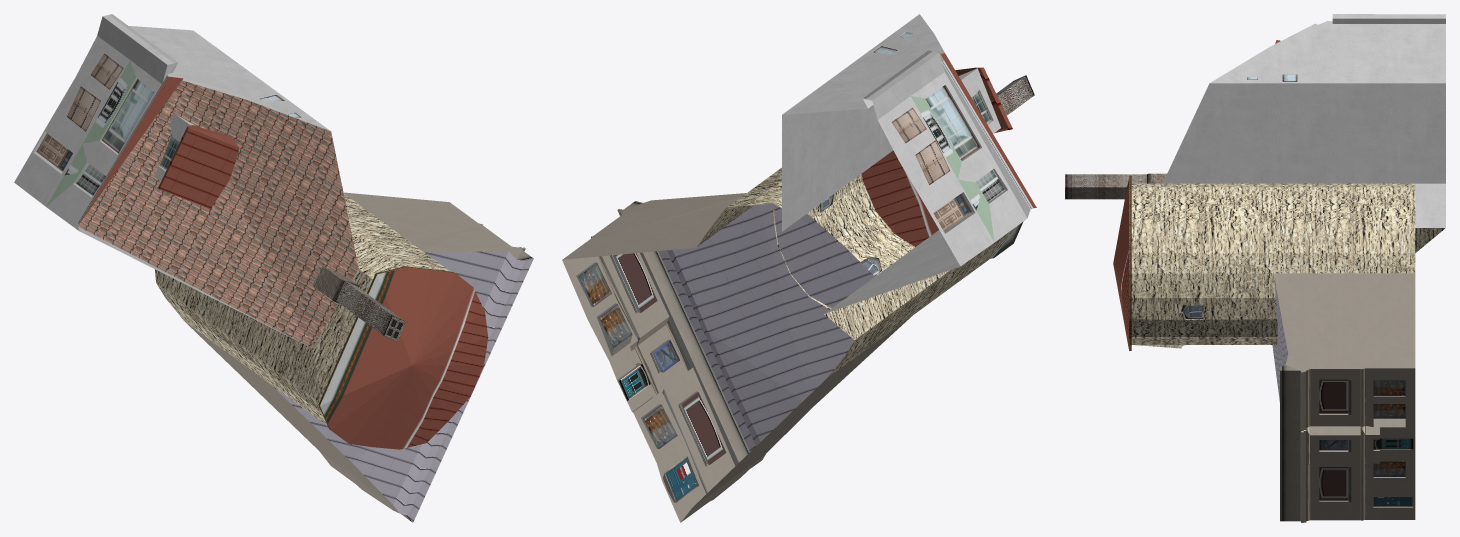
The model's file is Parnu2-origo.obj.
3 views of the same model, side by side, from view 1: azimuth 30°, elevation 25°; view 2: azimuth 150°, elevation 25°; view 3: azimuth 270°, elevation 25° (orthographic). The views are drawn at different scales.
Visible parts, largest first — view 1: Parnu2; view 2: Parnu2; view 3: Parnu2.
Boxes of the visible parts, <box> form: Parnu2: <box>14,14,533,522</box>; Parnu2: <box>562,14,1036,522</box>; Parnu2: <box>1065,14,1445,522</box>.
Bounding box in the file's own units: 25.12 × 27 × 22.33.
